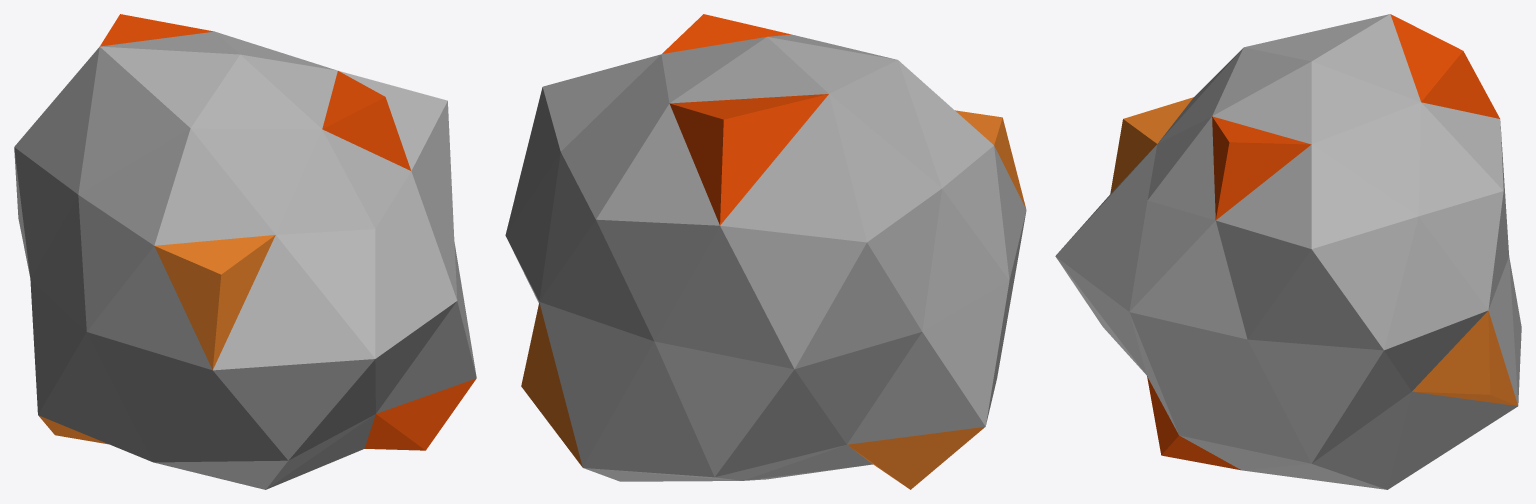
Rendered from Didiyenu.fbx.
3 renders of one model, left to right at view 1: azimuth 30°, elevation 25°; view 2: azimuth 150°, elevation 25°; view 3: azimuth 270°, elevation 25°, orthographic. The views are drawn at different scales.
Visible parts, largest first — view 1: Didiyenu; view 2: Didiyenu; view 3: Didiyenu.
Boxes of the visible parts, bbox=[...] form: Didiyenu: bbox=[14, 14, 476, 489]; Didiyenu: bbox=[505, 14, 1026, 489]; Didiyenu: bbox=[1055, 14, 1521, 489].
Bounding box in the file's own units: 204 × 196 × 212.
